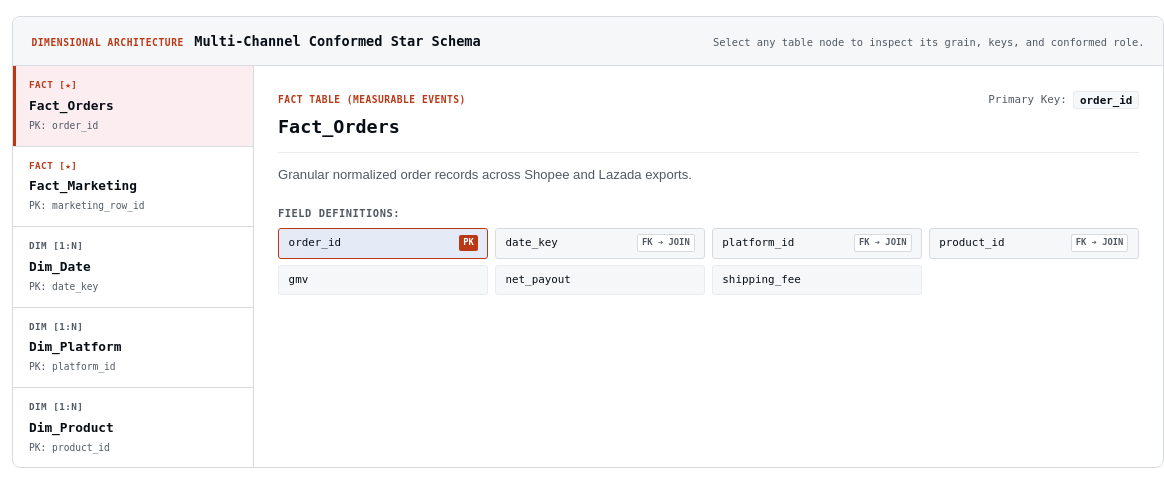
Test case: StarSchemaViewer Component › renders interactive star schema for ecommerce-sales-pipeline
The width and height of the screenshot is (1164, 485).
Expected: the heading "Multi-Channel Conformed Star Schema" is shown, [194,31,481,52]
Expected: the tab "FACT [★] Fact_Orders PK: order_id" is shown, [13,66,253,146]
# Click Dim_Date table
Click the tab "DIM [1:N] Dim_Date PK: date_key" at (133, 267), box [13,227,253,306]
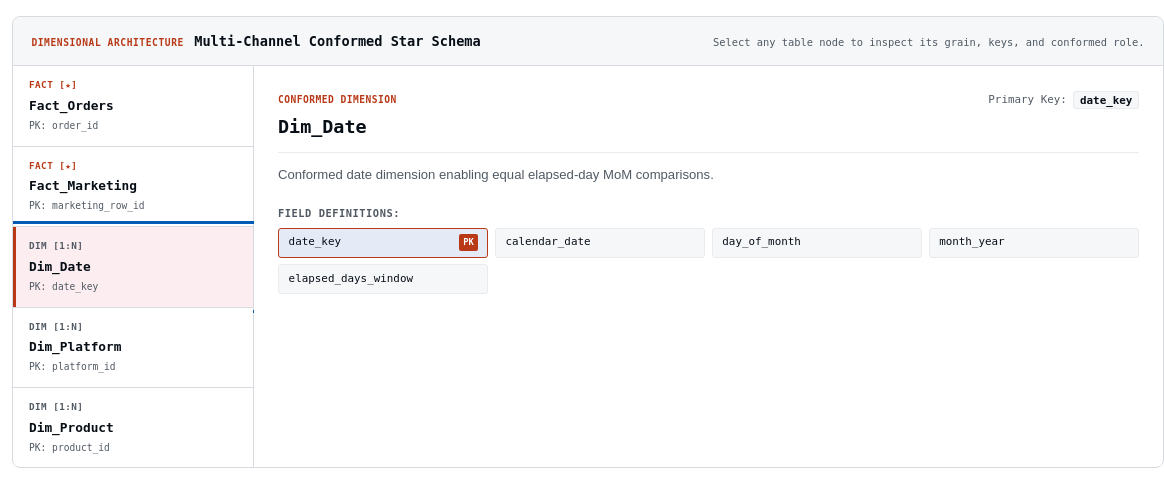
Expected: the text "Conformed date dimension enabling equal elapsed-day MoM comparisons." is shown, [278,167,714,182]
Expected: the text "calendar_date" is shown, [505,234,590,251]
Expected: the text "elapsed_days_window" is shown, [289,271,413,287]
